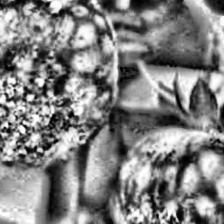Powdery Mildew Fruit: (0, 0, 120, 171), (106, 126, 224, 224)
